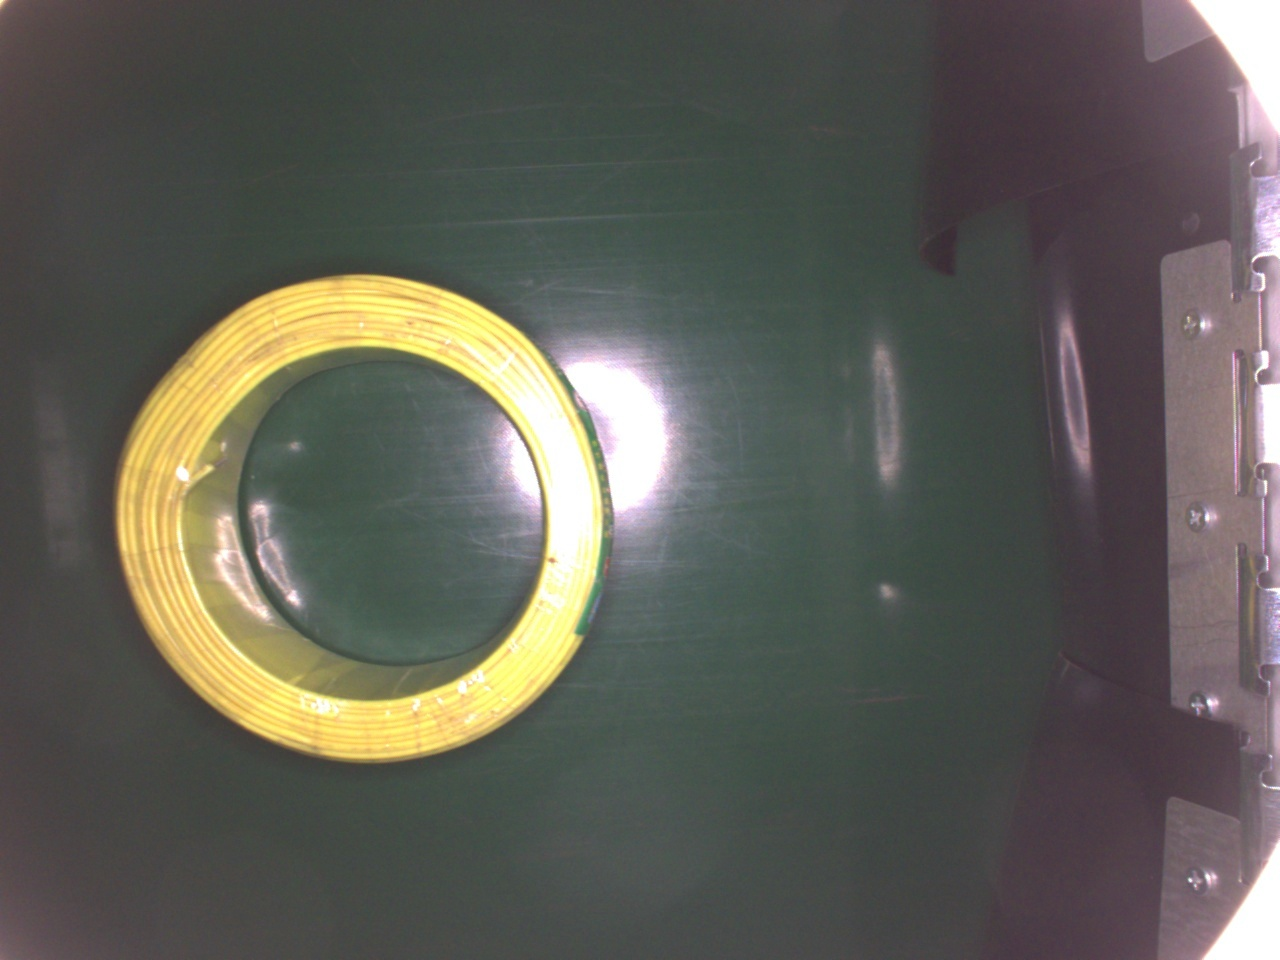yellow: (116, 271, 613, 769)
